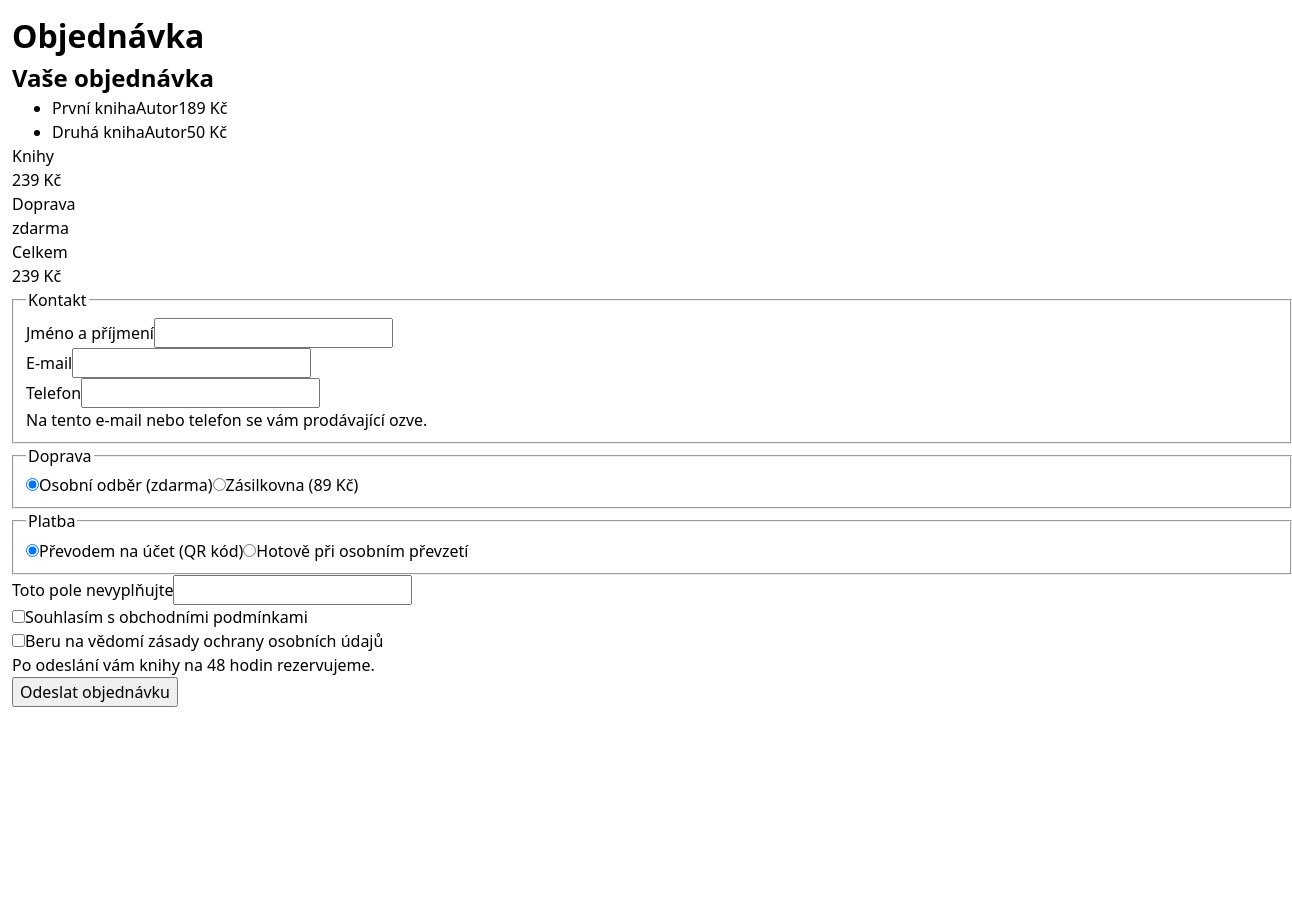
Scenario: CheckoutForm › validation › needs the pickup point for Zásilkovna
Expected: the text "První kniha" is shown, [52, 97, 136, 119]
In the field labelled "Jméno a příjmení": (273, 333) [154, 318, 393, 348], type "Jana Nováková"
In the field labelled "E-mail": (192, 363) [72, 348, 311, 378], type "jana@example.com"
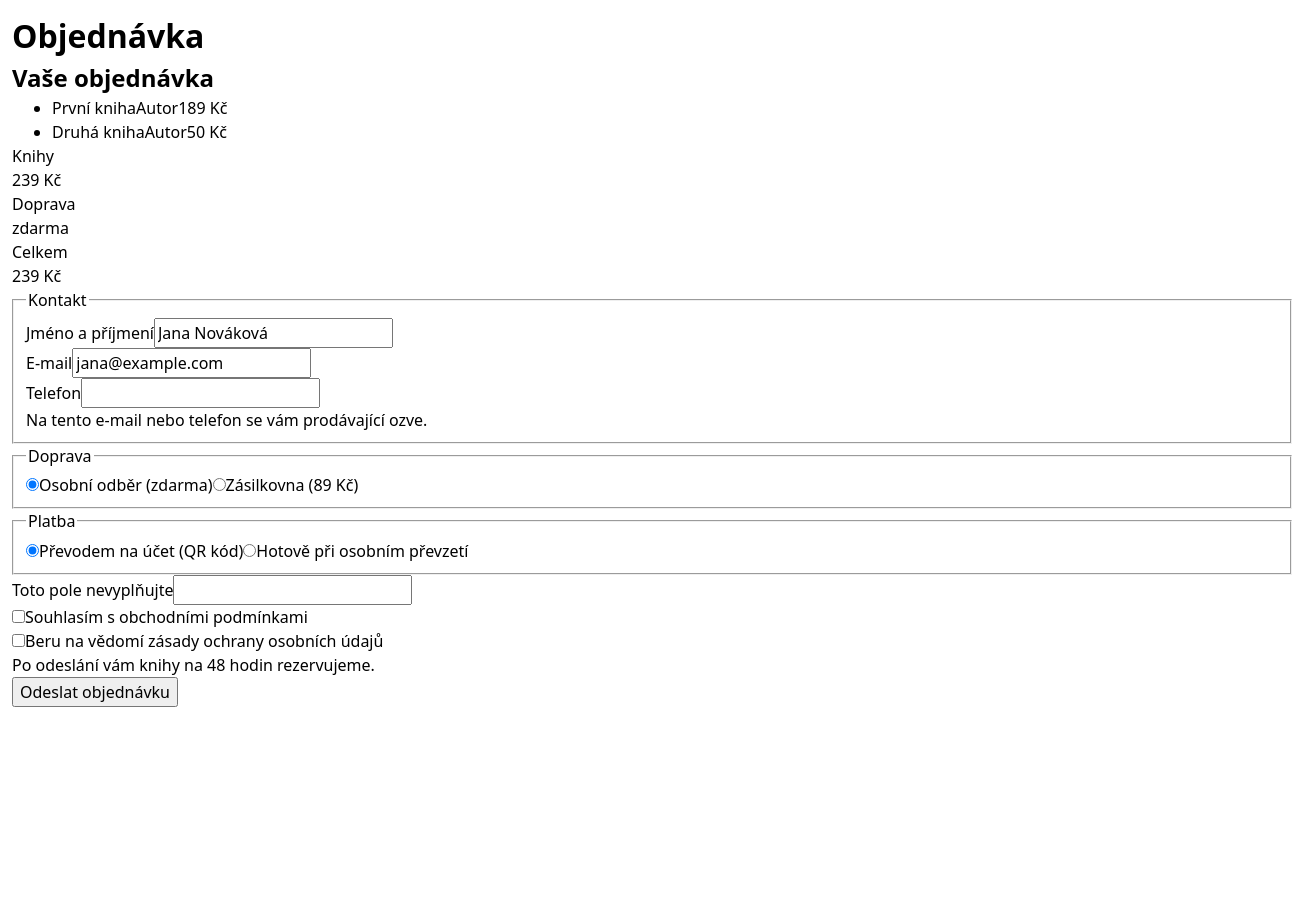
In the field labelled "Telefon": (200, 393) [81, 378, 320, 408], type "+420 601 234 567"
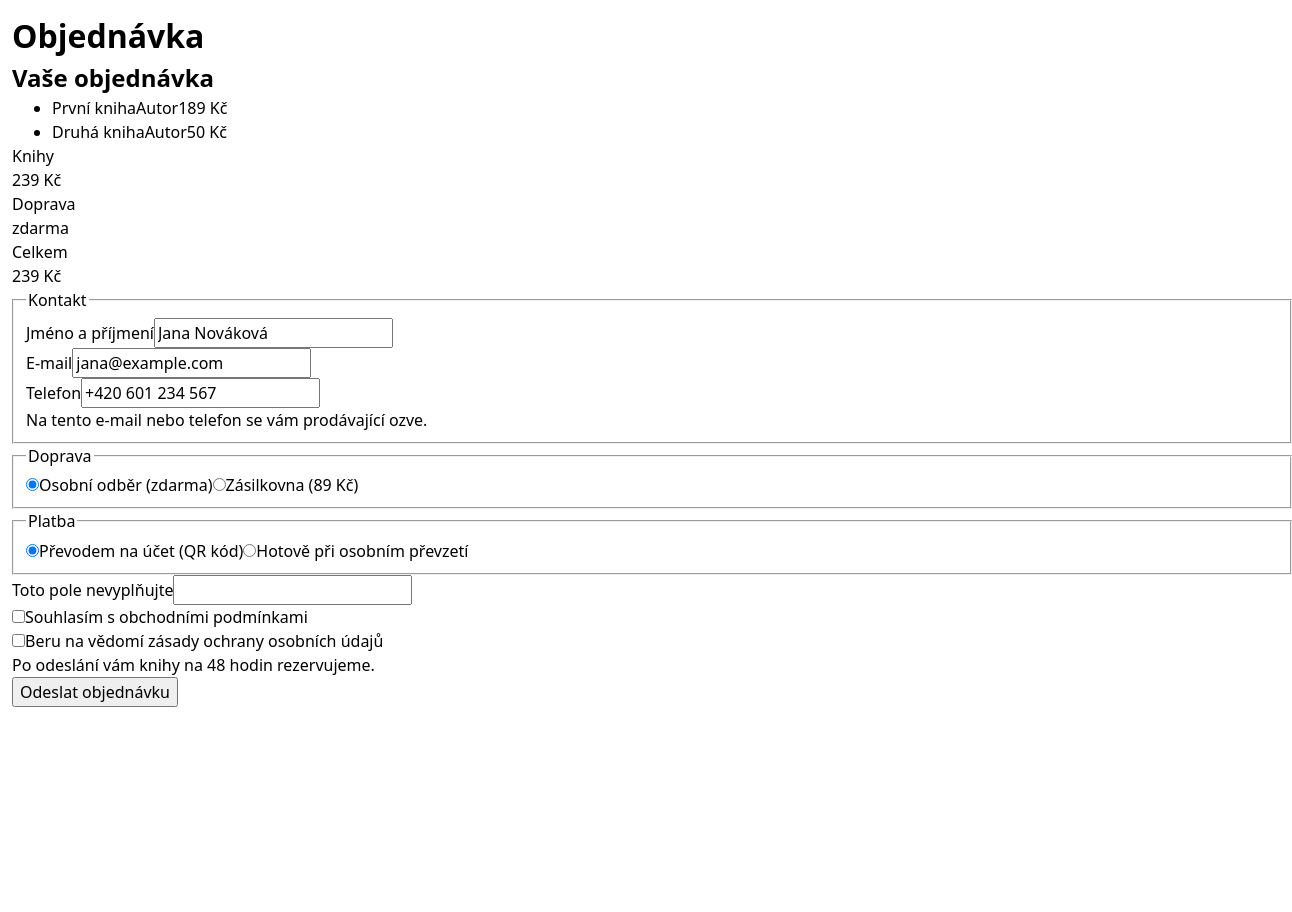
Click the checkbox labelled "Souhlasím s obchodními podmínkami": (18, 616) [12, 610, 25, 623]
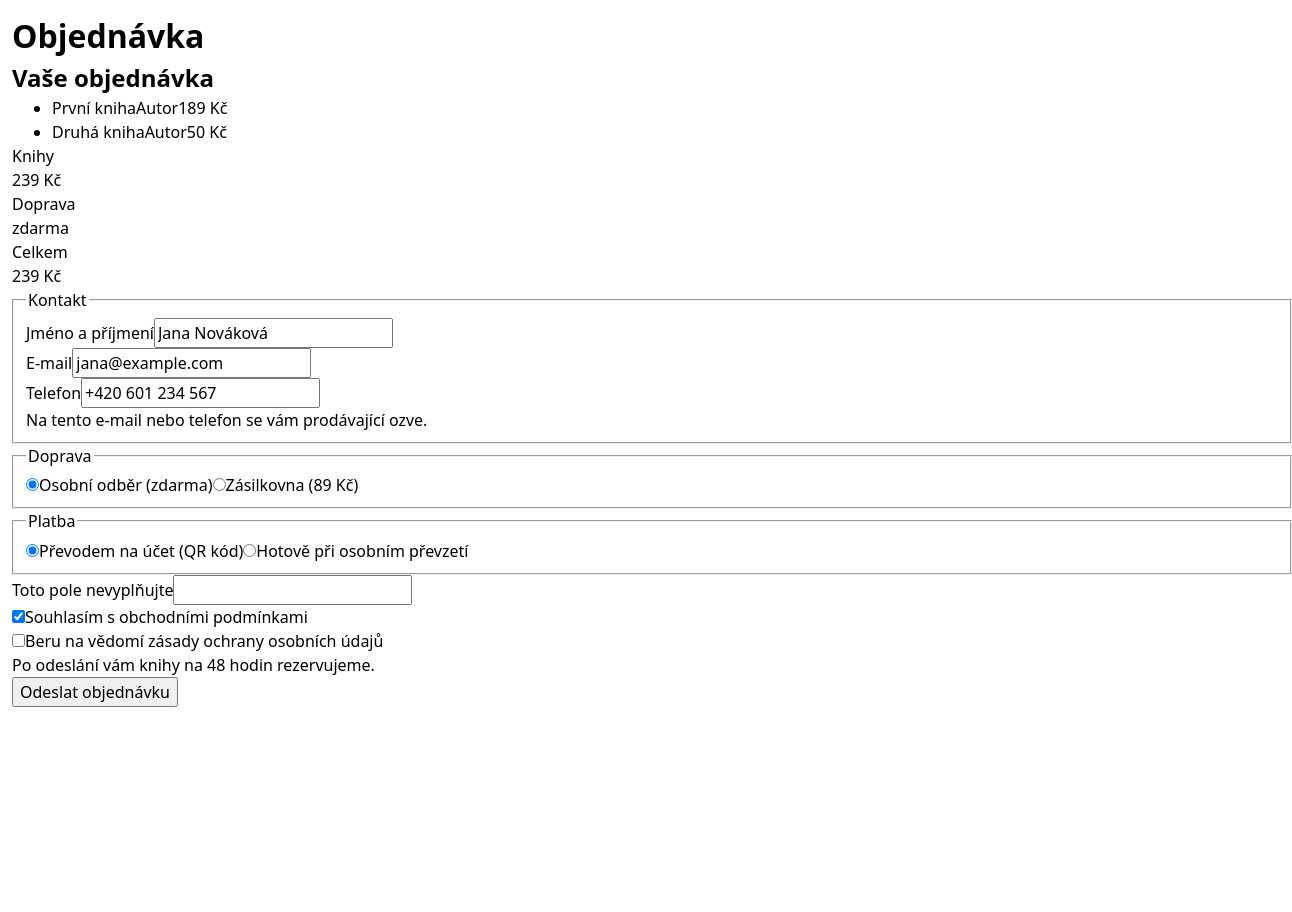
Click the checkbox labelled "Beru na vědomí zásady ochrany osobních údajů": (18, 640) [12, 634, 25, 647]
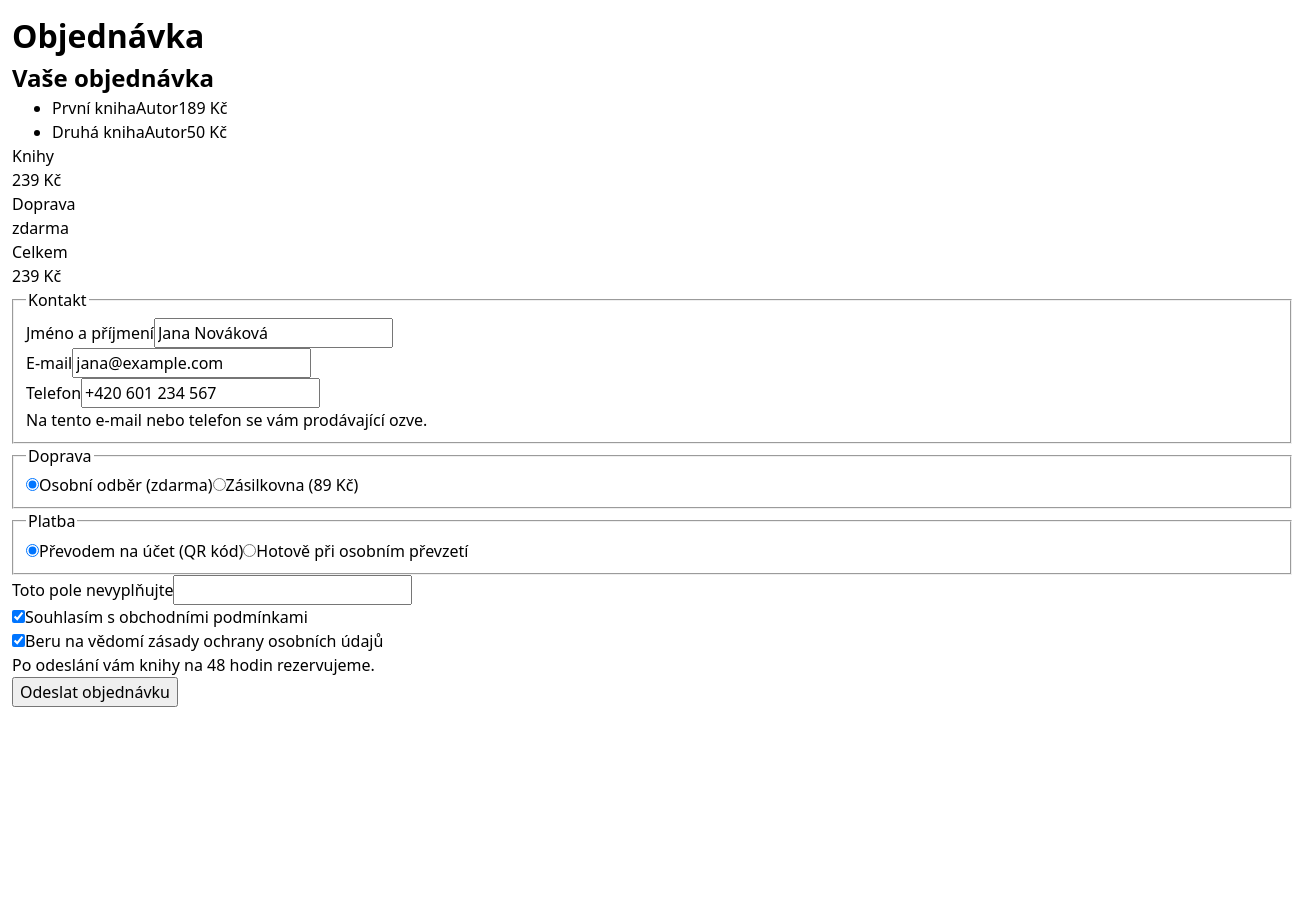
Click the radio button labelled "Zásilkovna (89 Kč)": (219, 485) [212, 478, 226, 491]
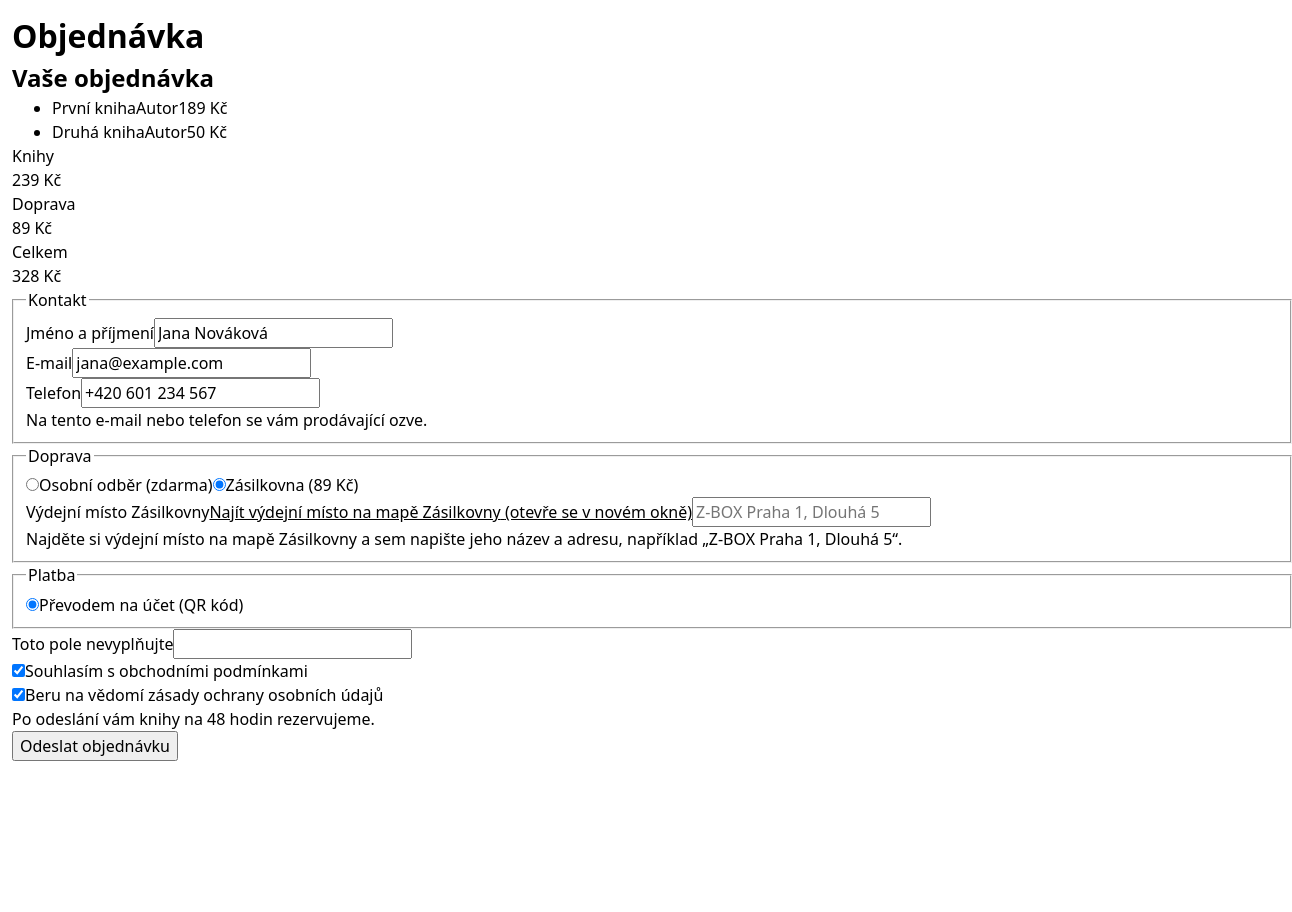
Click the button "Odeslat objednávku": (95, 746) [12, 731, 178, 761]
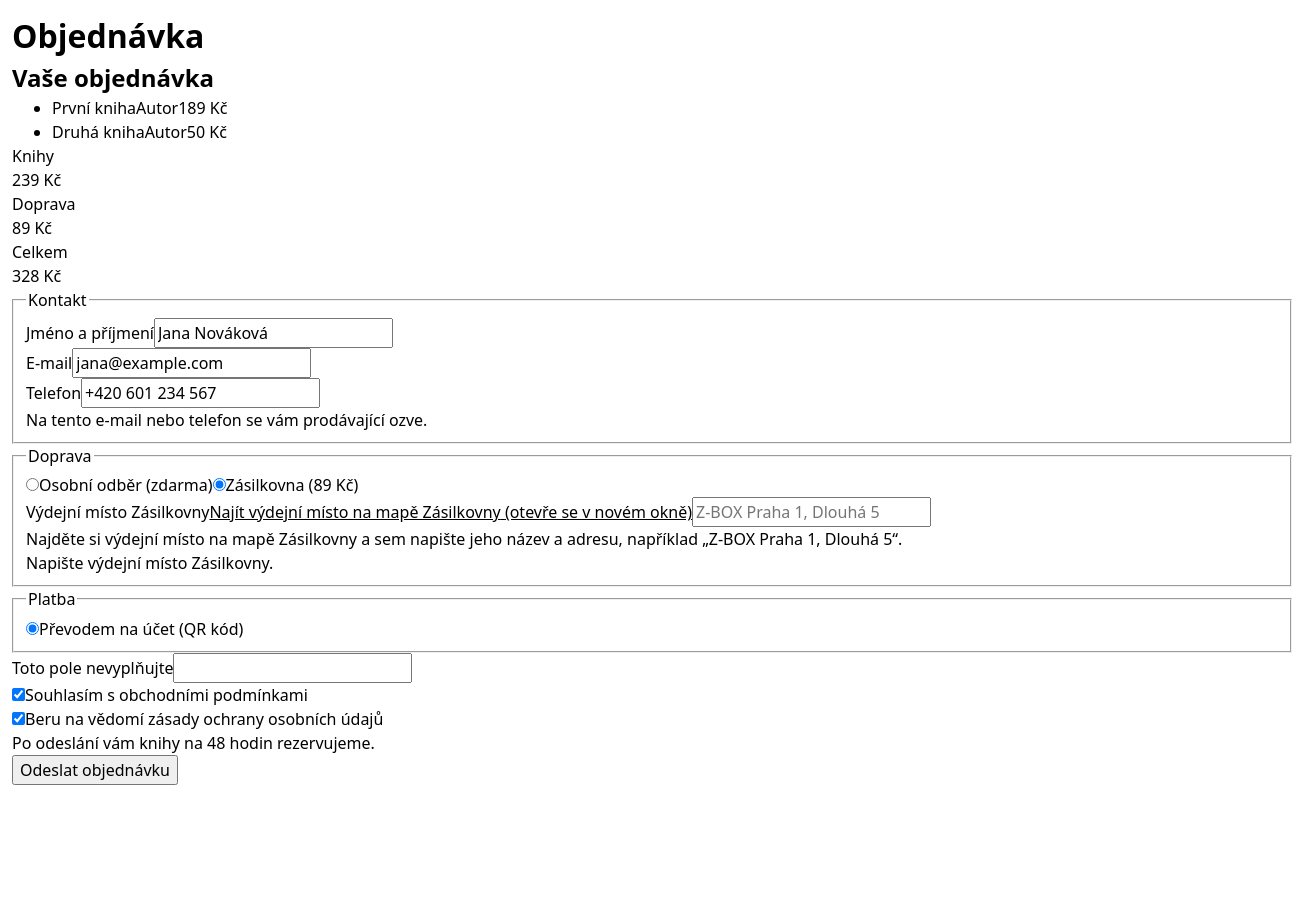
Now the text "Napište výdejní místo Zásilkovny." is shown, box [26, 552, 273, 574]
